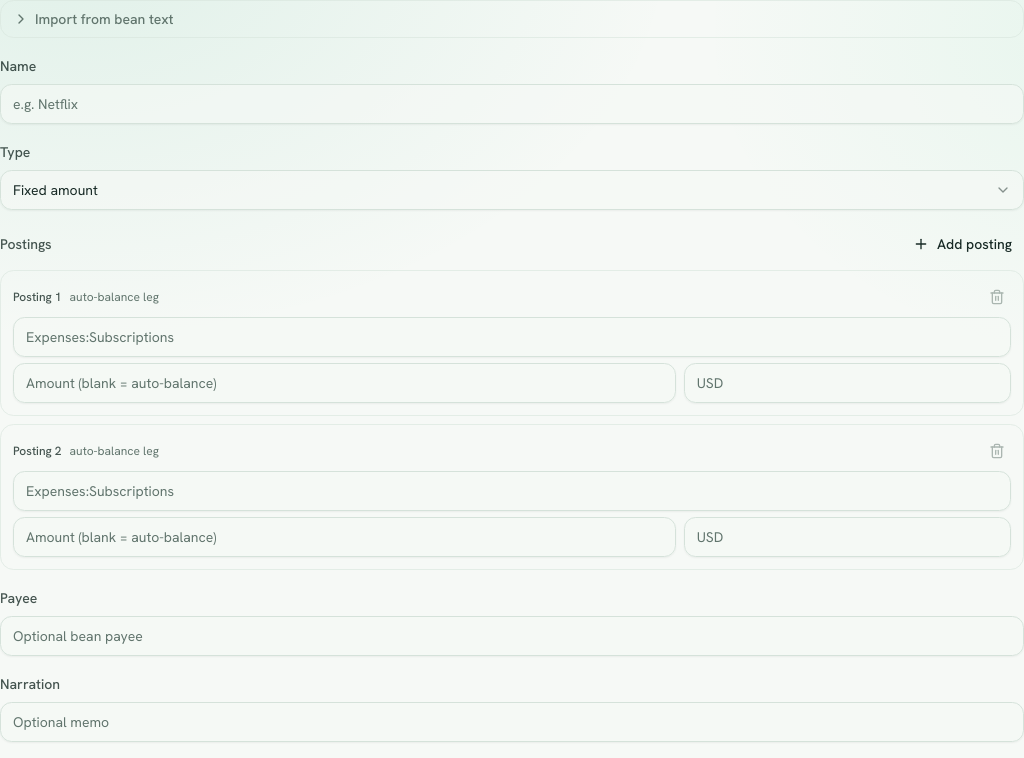
Test: import fills the form from parsed bean text on a clean form, no confirm
Step 1. Click the button "Import from bean text" → click(104, 19), box x1=1 y1=1 x2=1023 y2=37
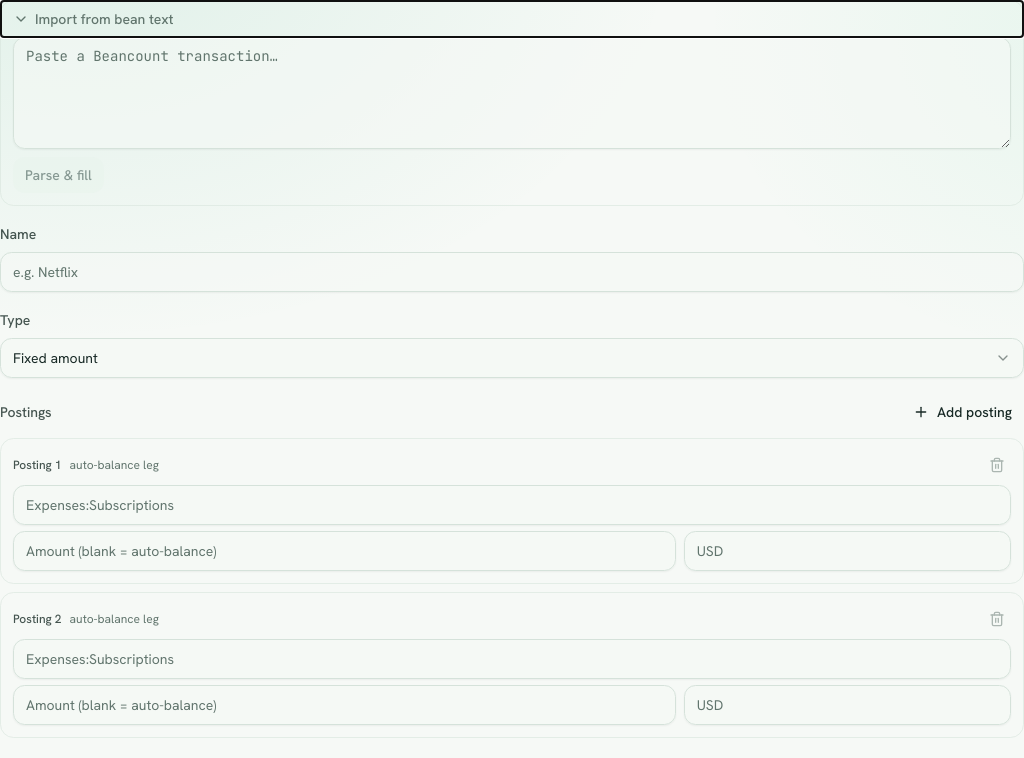
Step 2. Type "x" into the text box named "bean text" → (512, 93), box x1=13 y1=37 x2=1011 y2=149
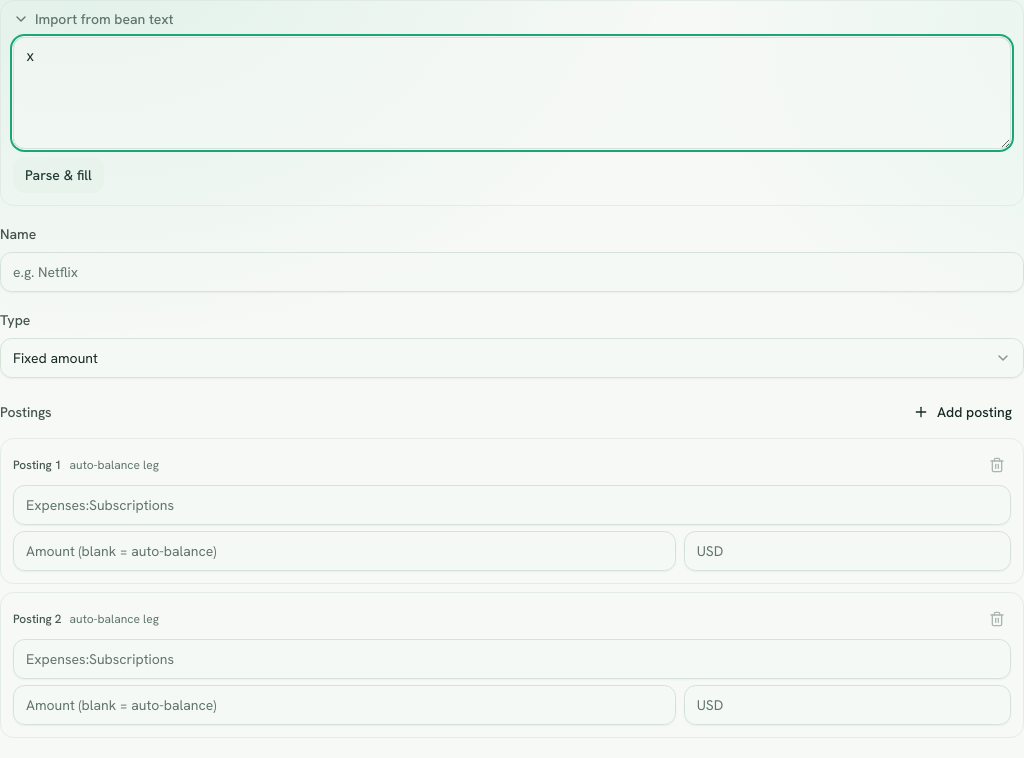
Step 3. Click the button "Parse & fill" → click(58, 175), box x1=13 y1=157 x2=104 y2=193
(page scrolled)
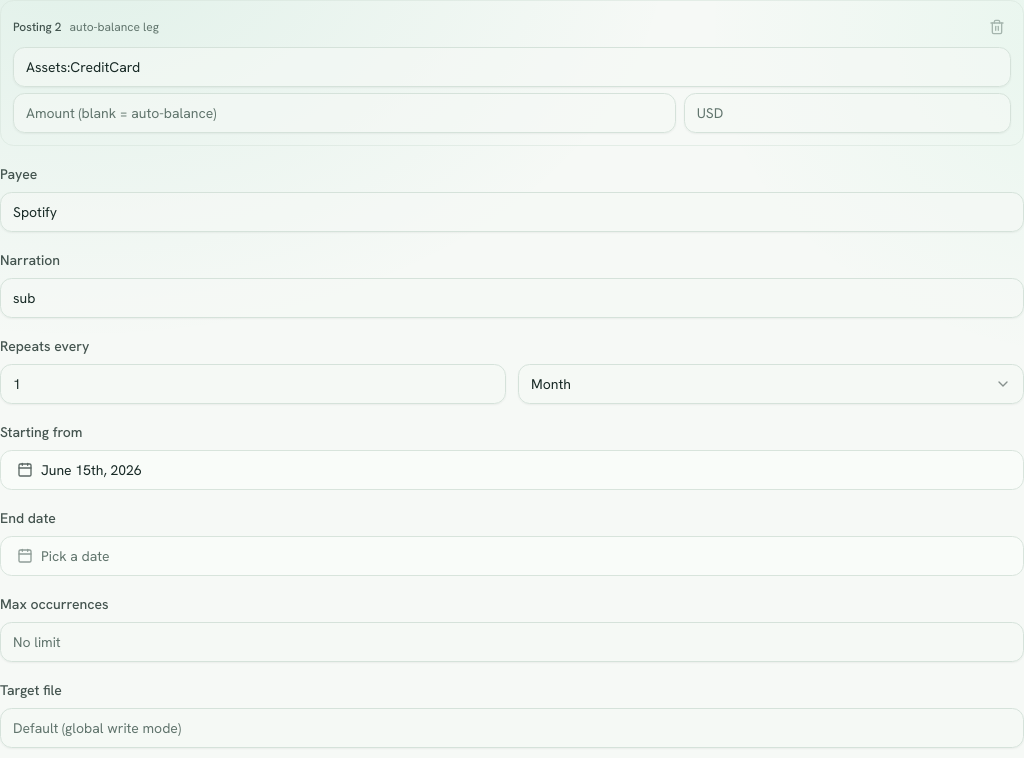
expect the field labelled "Narration" holds "sub": met, box x1=0 y1=278 x2=1023 y2=318
expect the field labelled "Payee" holds "Spotify": met, box x1=0 y1=192 x2=1023 y2=232
expect the dropdown named "account 2" holds "Assets:CreditCard": met, box x1=13 y1=47 x2=1011 y2=87
